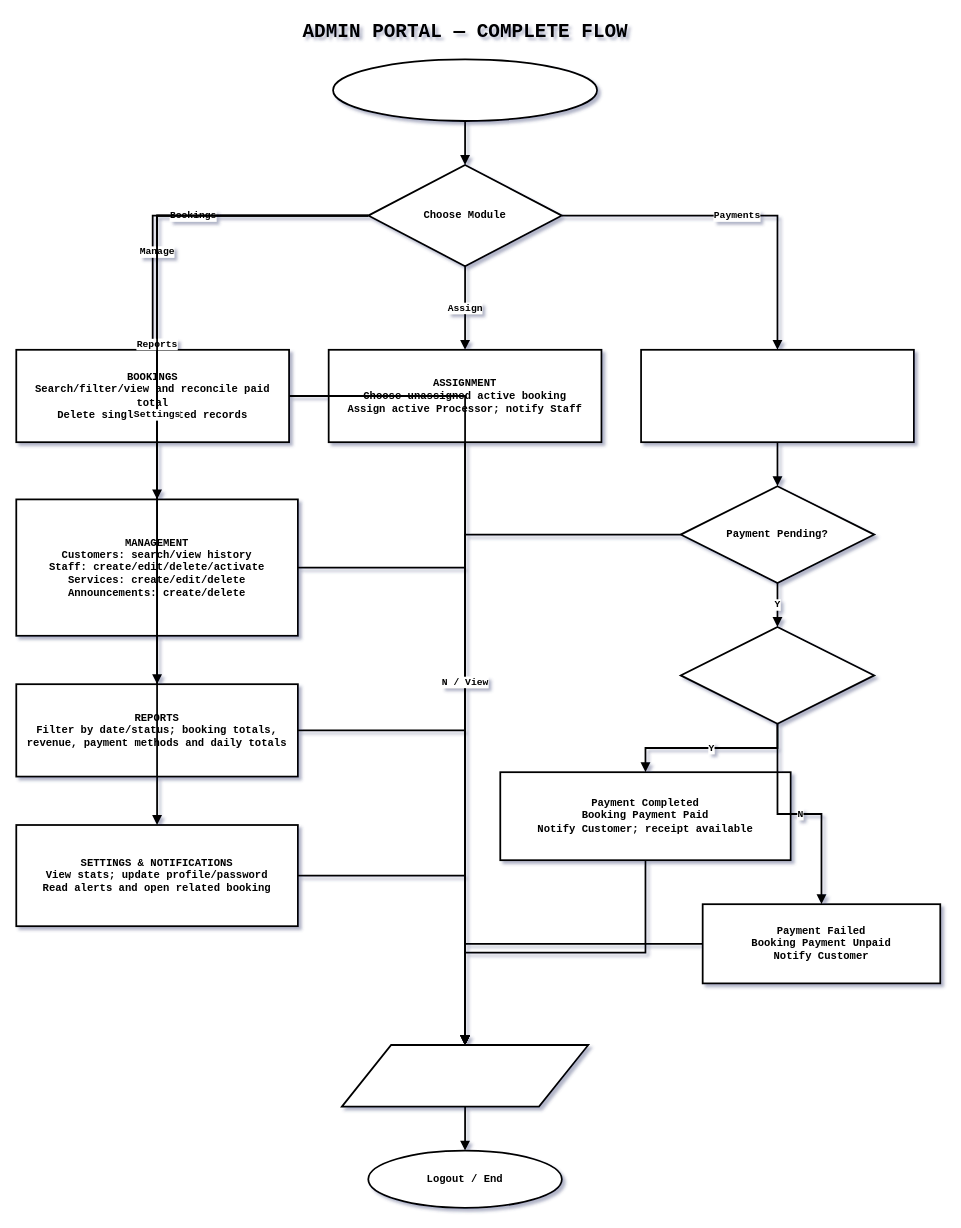
The diagram is 961 pixels wide and 1228 high, and some of its shapes have lost their labels. Each missing label, with the centre of its shape:
"Authenticated Admin / Dashboard" goes at (465,89).
"Confirm Payment?" goes at (777,675).
"PAYMENTS Search/filter/view proof and receipt Delete single/selected records" goes at (777,395).
"Return to Dashboard" goes at (465,1075).
